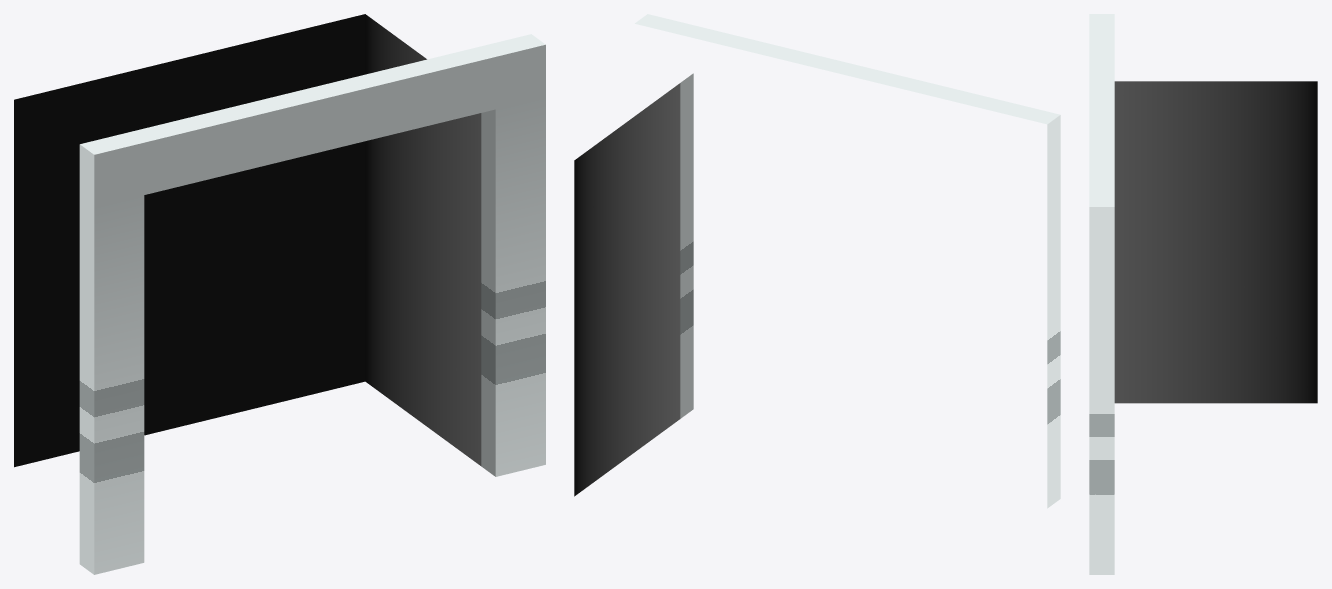
The picture shows the model from 3 angles, left to right: view 1: azimuth 30°, elevation 25°; view 2: azimuth 150°, elevation 25°; view 3: azimuth 270°, elevation 25°; orthographic projection. The views are drawn at different scales.
Size of the model in its own units: 2.25 by 2 by 1.12.
2 materials, 1 textured.
